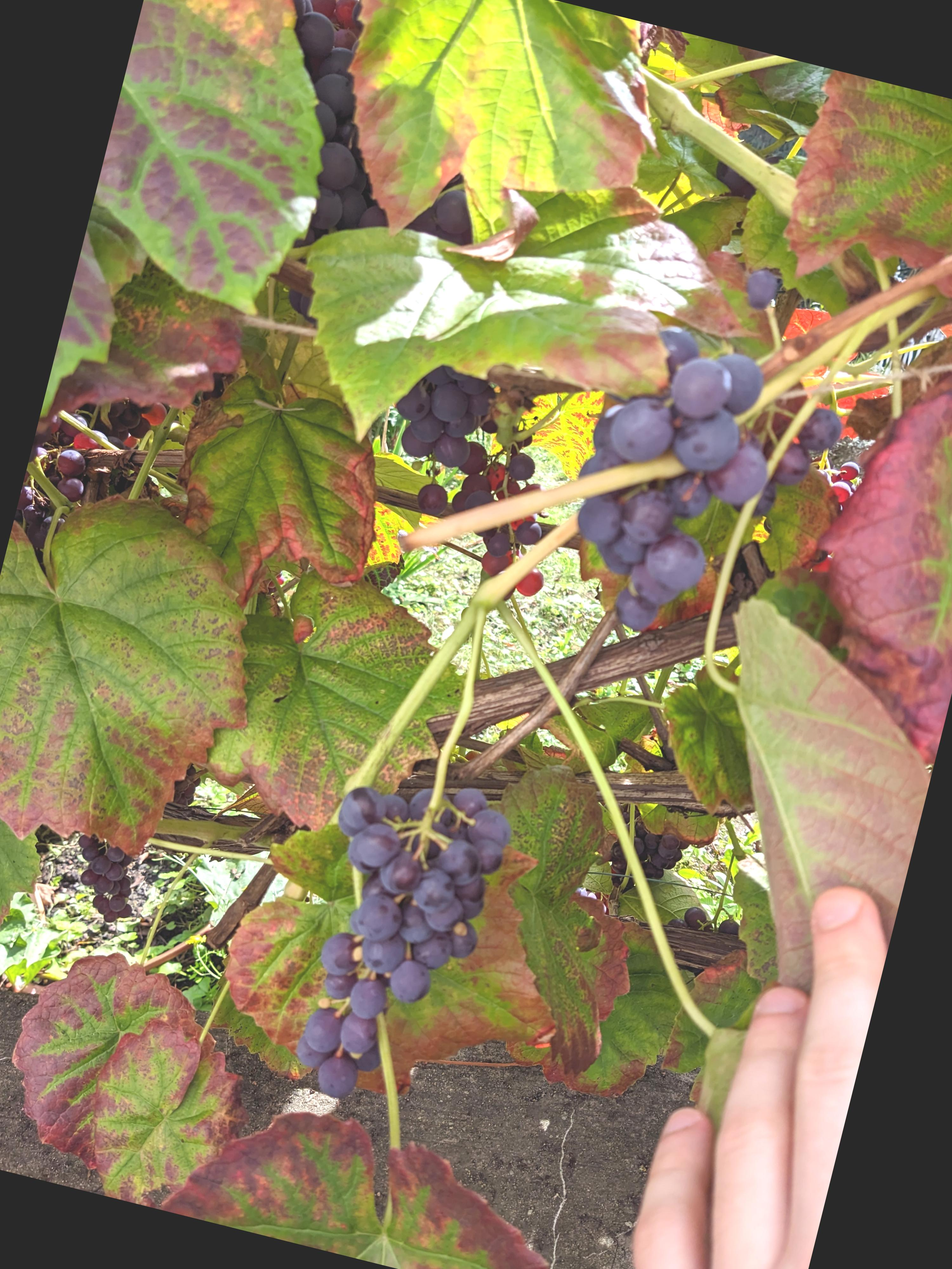Grape Ripe: (426, 642, 680, 1031), (703, 198, 952, 578), (376, 0, 679, 260), (520, 262, 753, 510), (164, 284, 329, 499), (219, 738, 309, 839)
